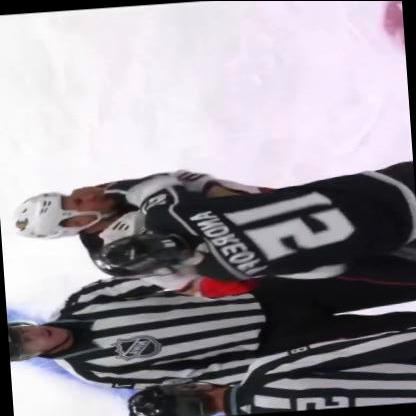non-Voilence: (114, 315, 415, 415)
voilence: (0, 148, 415, 314)
